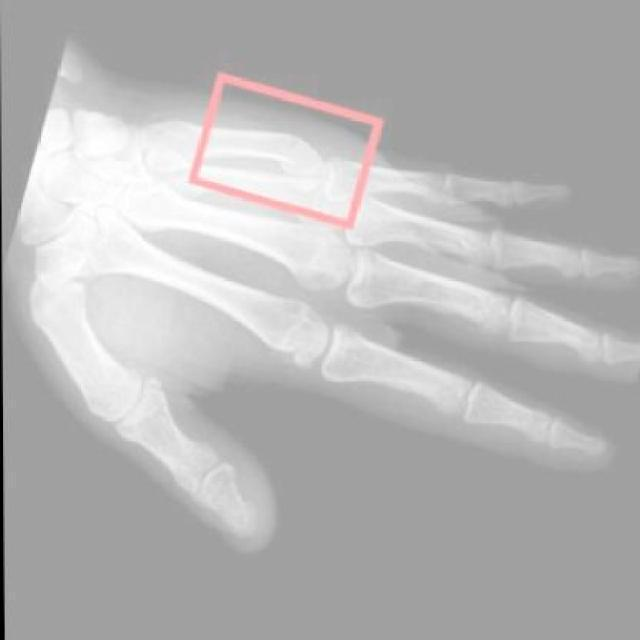Fracture: (269, 119, 330, 184)
